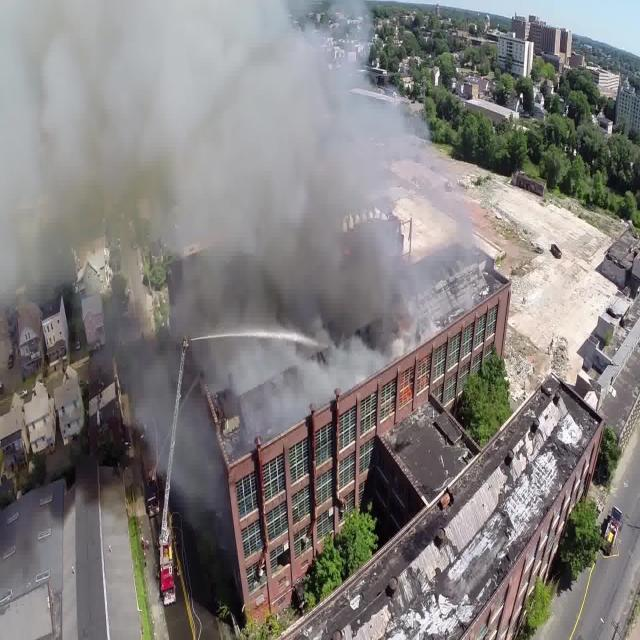smoke: (3, 2, 467, 316), (132, 321, 372, 488)
